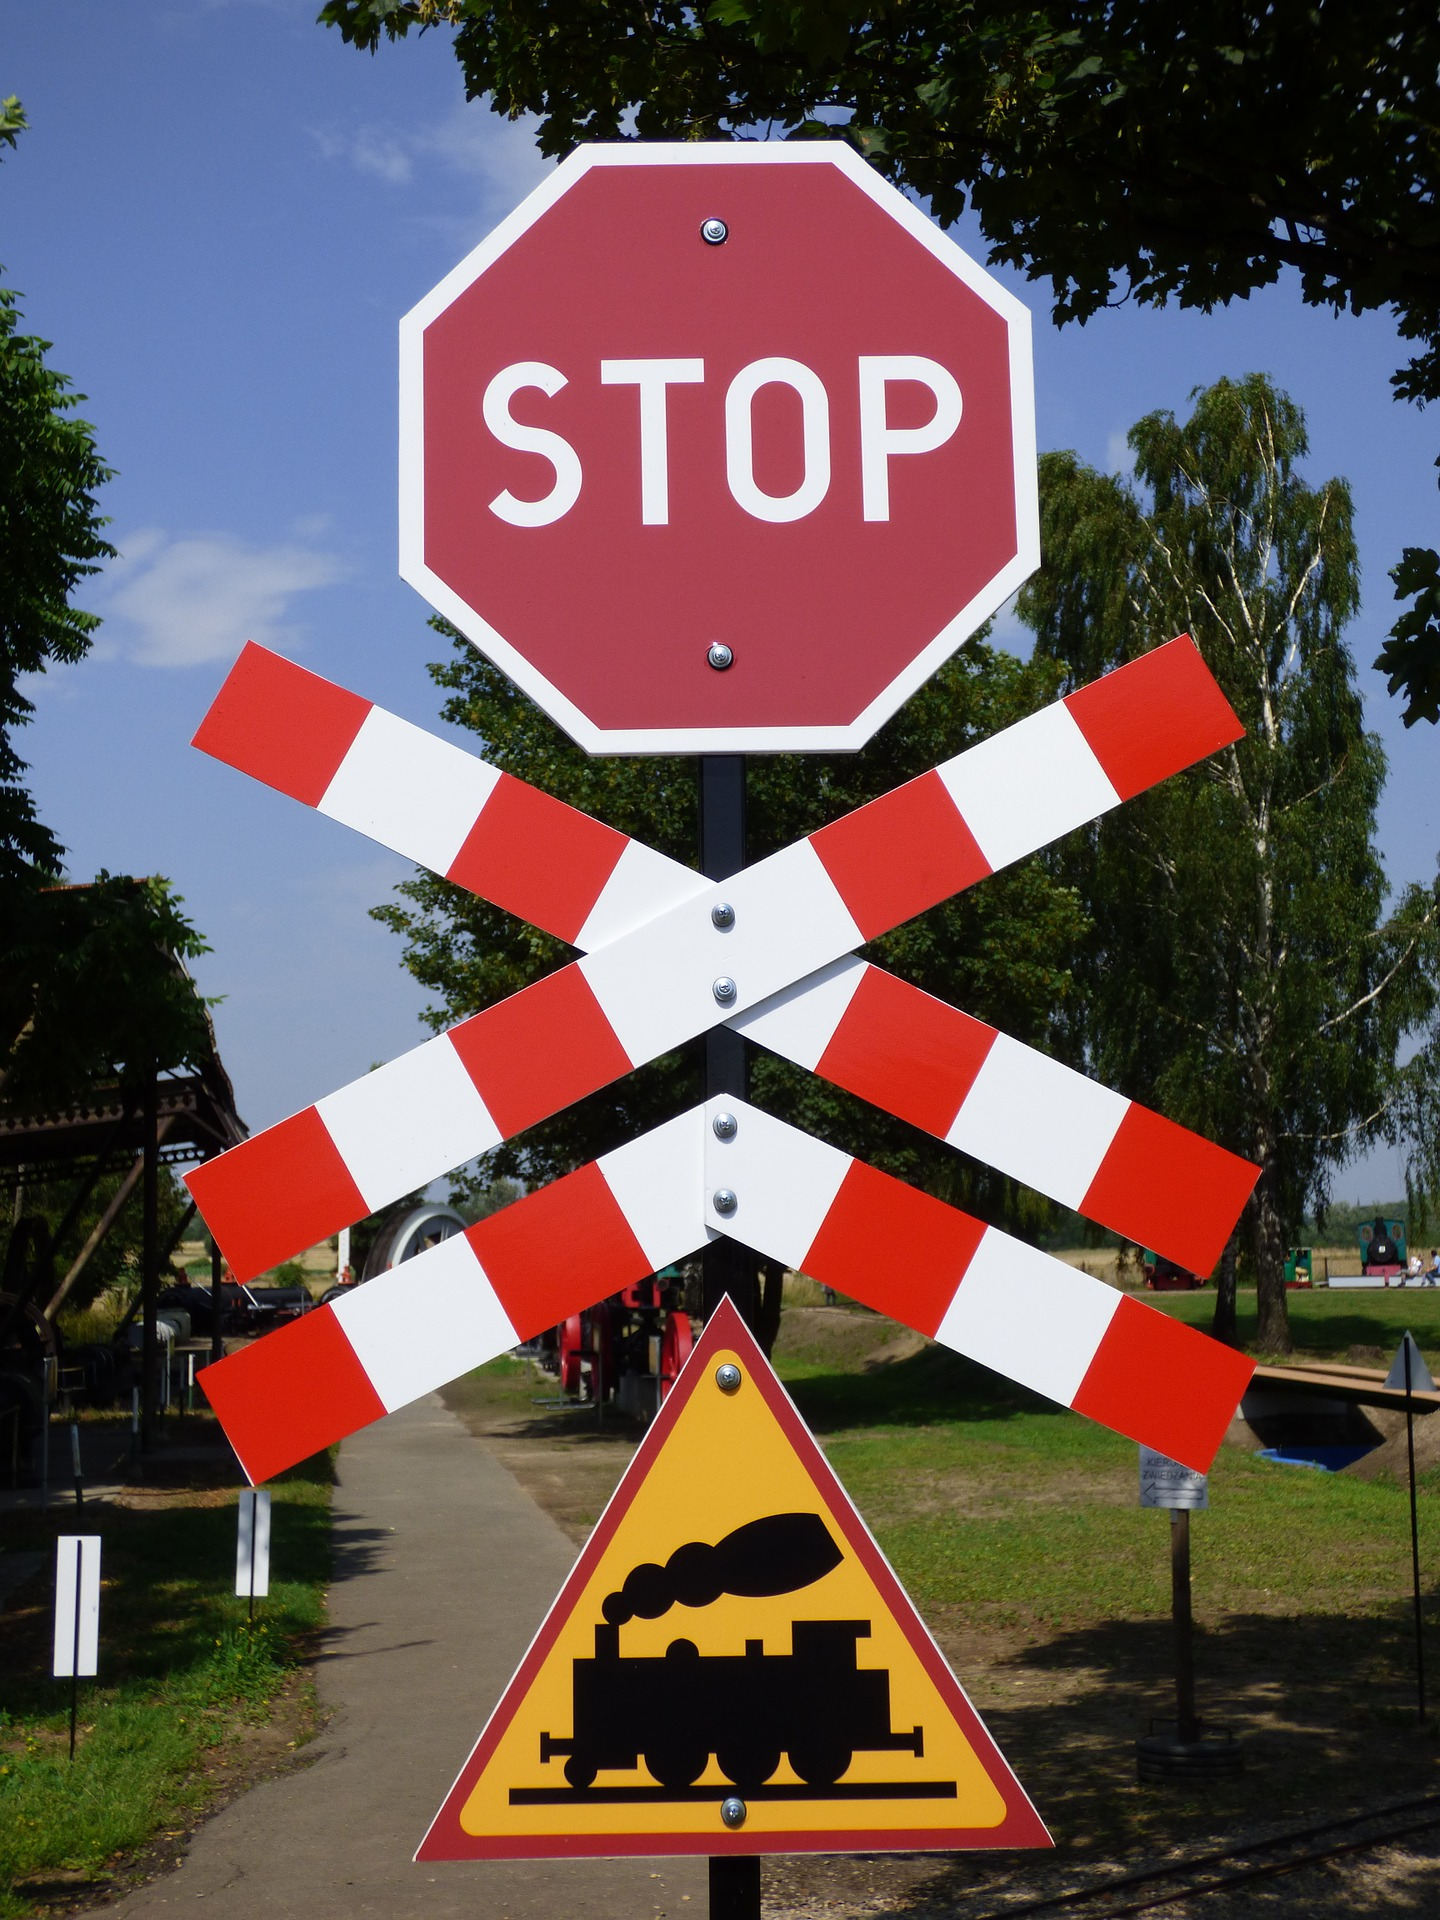a10: (495, 1503, 970, 1814)
